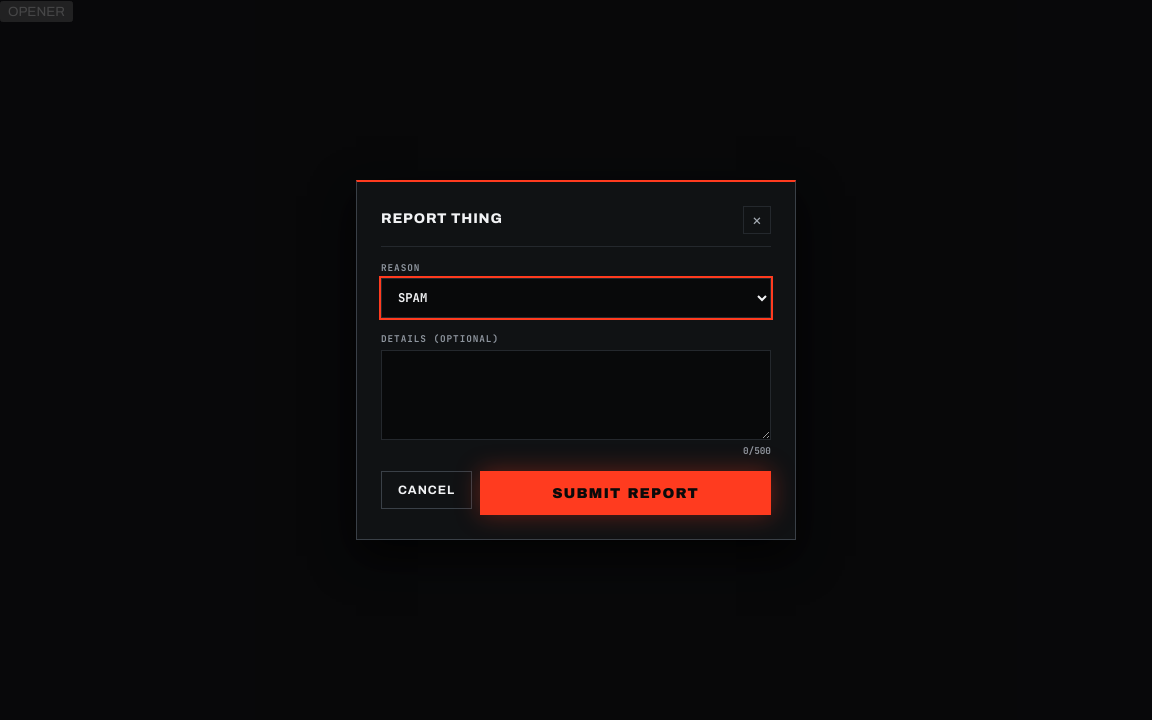
it: ReportDialog › caps details at 500 characters and shows the counter
The width and height of the screenshot is (1152, 720).
Type "abcd" into the text box named "Report details" at (576, 395), box [381,350,771,440]
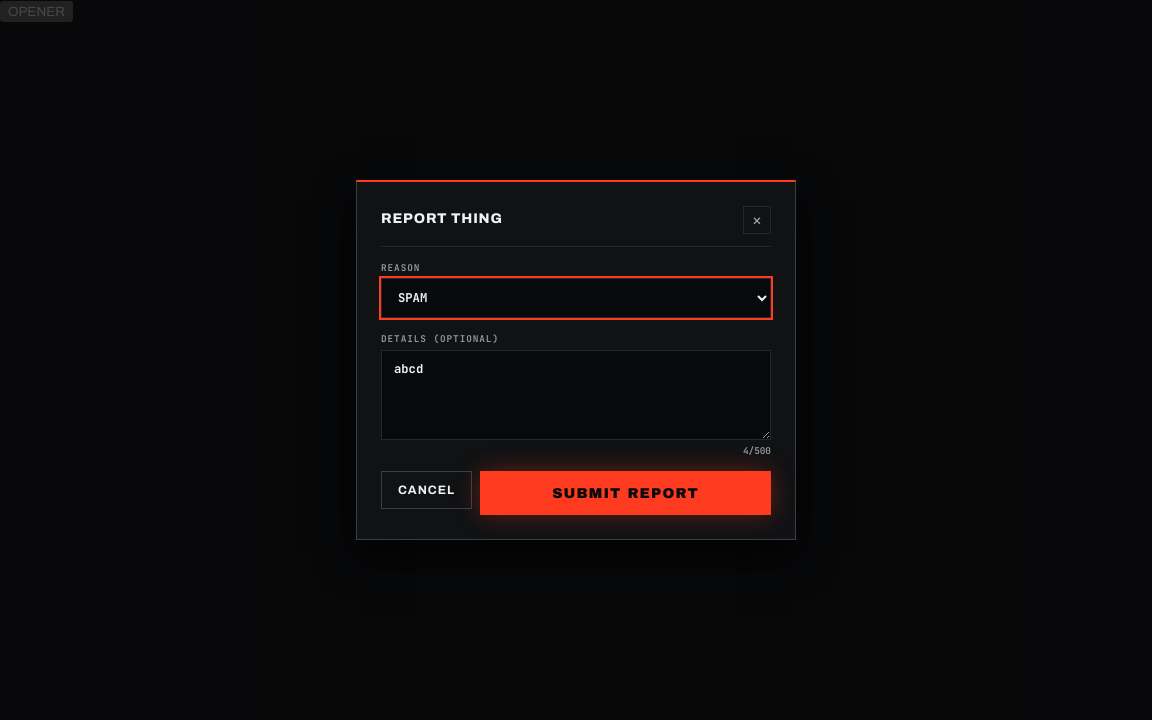
expect the text "4/500" is shown: met, box [743,446,771,455]
